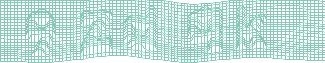9: (25, 8, 57, 58)
Z: (77, 8, 114, 55)
d: (121, 4, 157, 52)
k: (234, 4, 267, 51)
q: (185, 5, 224, 55)
